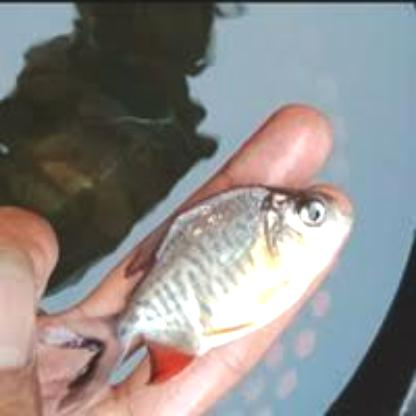ikan-pacu: (92, 188, 342, 378)
